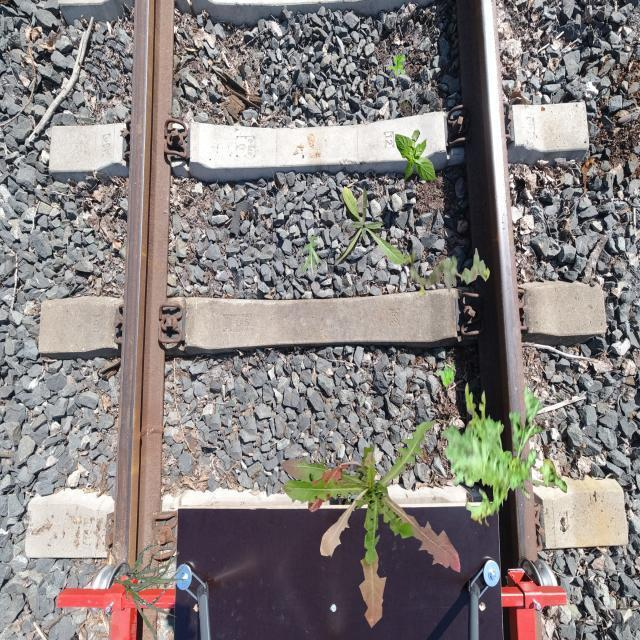Plant: (281, 420, 461, 628), (443, 380, 568, 527), (113, 545, 186, 638), (333, 186, 404, 267), (404, 246, 491, 298), (395, 129, 437, 182), (297, 236, 324, 278), (435, 362, 456, 387), (388, 53, 406, 77)
